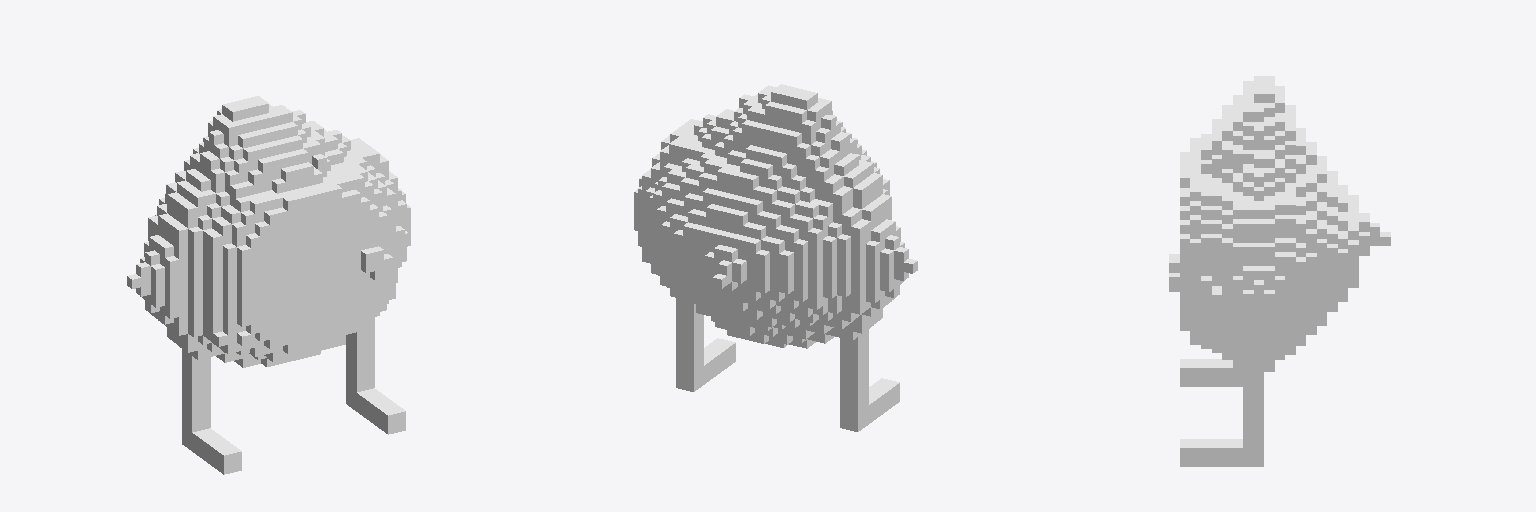
File: gold2.obj
3 views of the same model, side by side, from view 1: azimuth 30°, elevation 25°; view 2: azimuth 150°, elevation 25°; view 3: azimuth 270°, elevation 25° (orthographic).
Parts seen in each view (by area): view 1: object 1; view 2: object 1; view 3: object 1.
Part boxes in pixels (bbox=[...]): object 1: bbox=[127, 96, 410, 474]; object 1: bbox=[634, 84, 917, 431]; object 1: bbox=[1169, 76, 1390, 466].
Size of the model in its own units: 3 by 3.4 by 2.1.